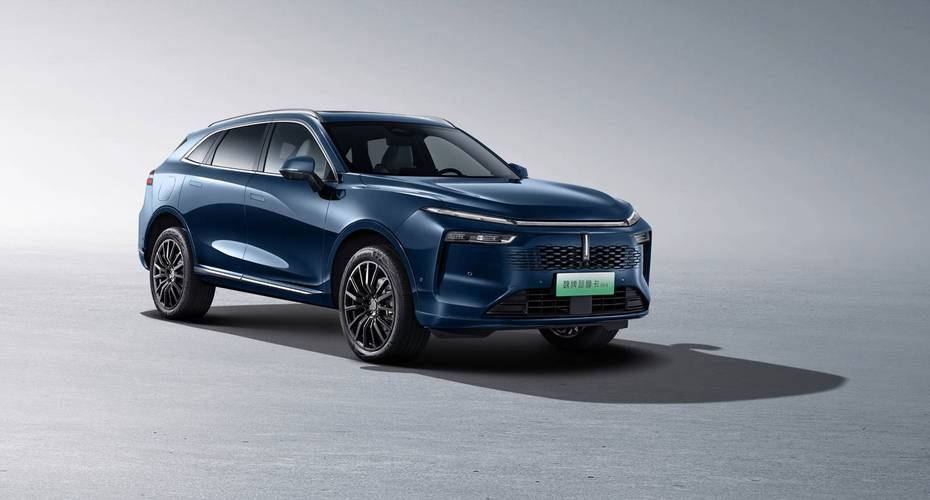汽车: (121, 105, 677, 401)
